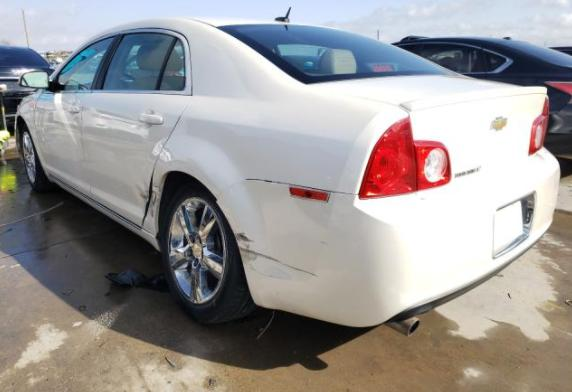Back-bumper: (216, 146, 561, 328)
Back-door: (81, 27, 194, 229)
Back-wheel: (160, 177, 259, 326)
Back-window: (102, 34, 175, 90), (159, 39, 184, 90)
Back-windshield: (216, 25, 466, 84)
Fender: (14, 89, 49, 173)
Front-door: (34, 30, 121, 199)
Front-wheel: (19, 124, 65, 195)
Front-window: (58, 38, 114, 90)
Mirror: (18, 70, 63, 93)
Quarter-panel: (142, 83, 410, 237)
Rocker-panel: (44, 173, 161, 253)
Roof: (181, 17, 345, 30)
Tail-light: (359, 115, 453, 201), (528, 96, 550, 157)
Trunk: (306, 73, 549, 184)
